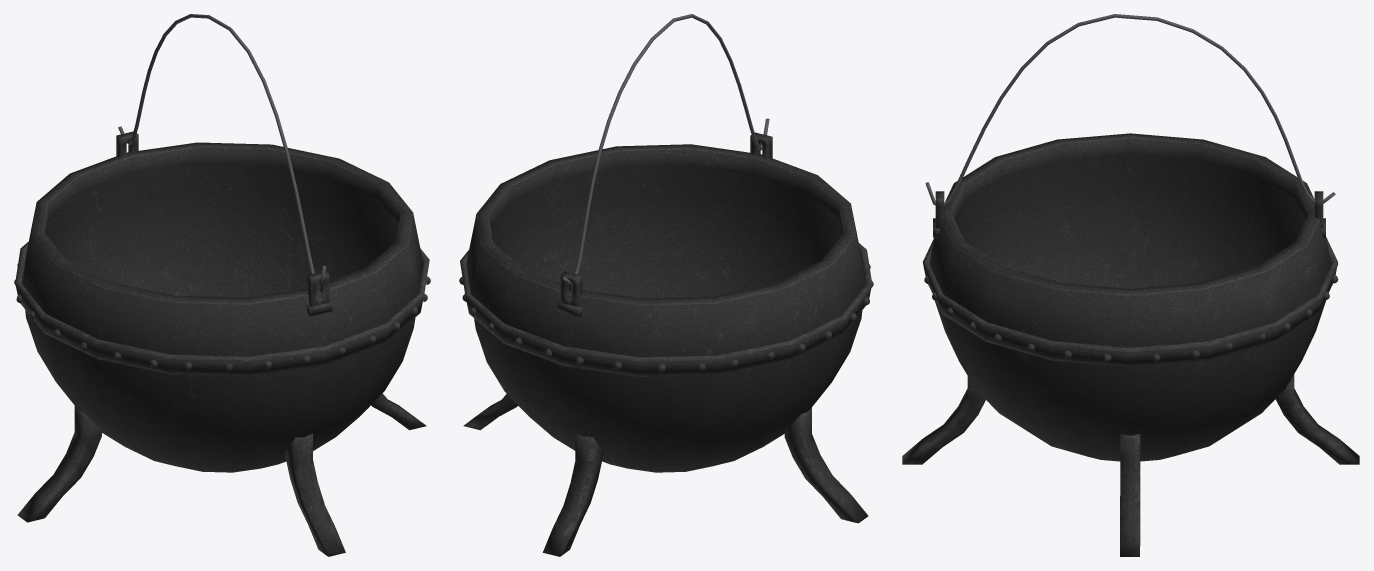
3 renders of one model, left to right at view 1: azimuth 30°, elevation 25°; view 2: azimuth 150°, elevation 25°; view 3: azimuth 270°, elevation 25°, orthographic.
Visible parts, largest first — view 1: SM_MetalPot_1_JFG; view 2: SM_MetalPot_1_JFG; view 3: SM_MetalPot_1_JFG.
Part boxes in pixels (x1,y1,x2,y2): SM_MetalPot_1_JFG: [14, 14, 430, 556]; SM_MetalPot_1_JFG: [459, 14, 873, 556]; SM_MetalPot_1_JFG: [902, 14, 1359, 556].
Bounding box in the file's own units: 0.6211 × 0.6684 × 0.621.
6 materials, 6 textured.
